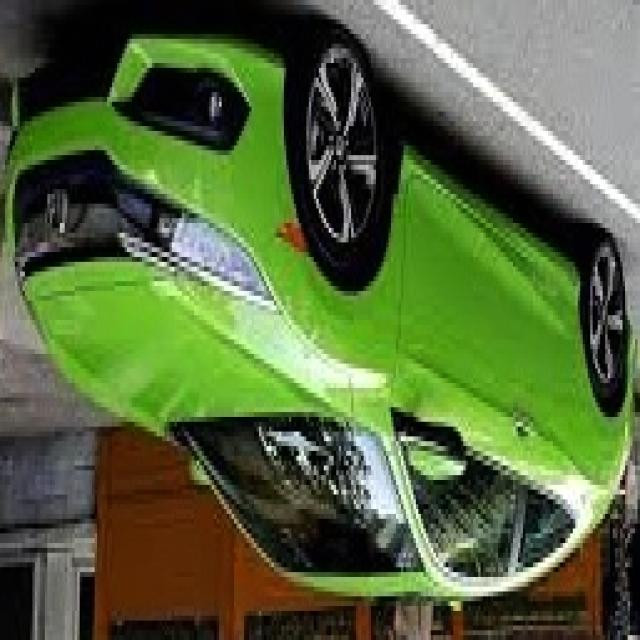green: (4, 29, 640, 601)
